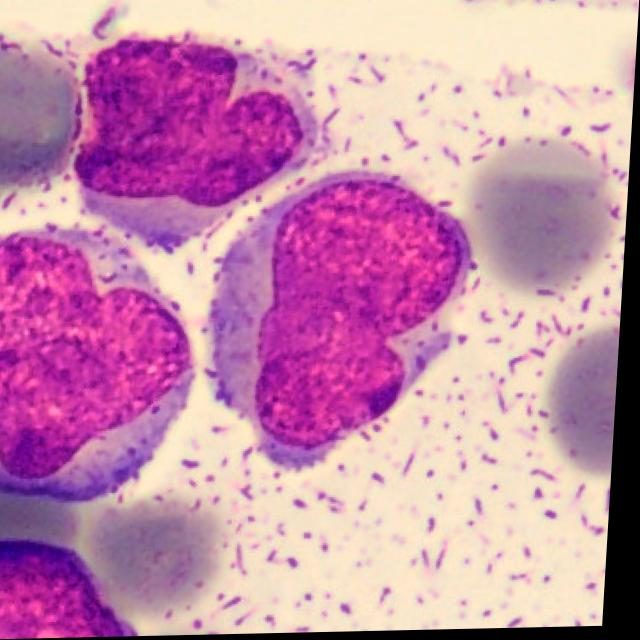Mieloblasto: (212, 177, 478, 455), (0, 226, 201, 503), (72, 34, 318, 255)
